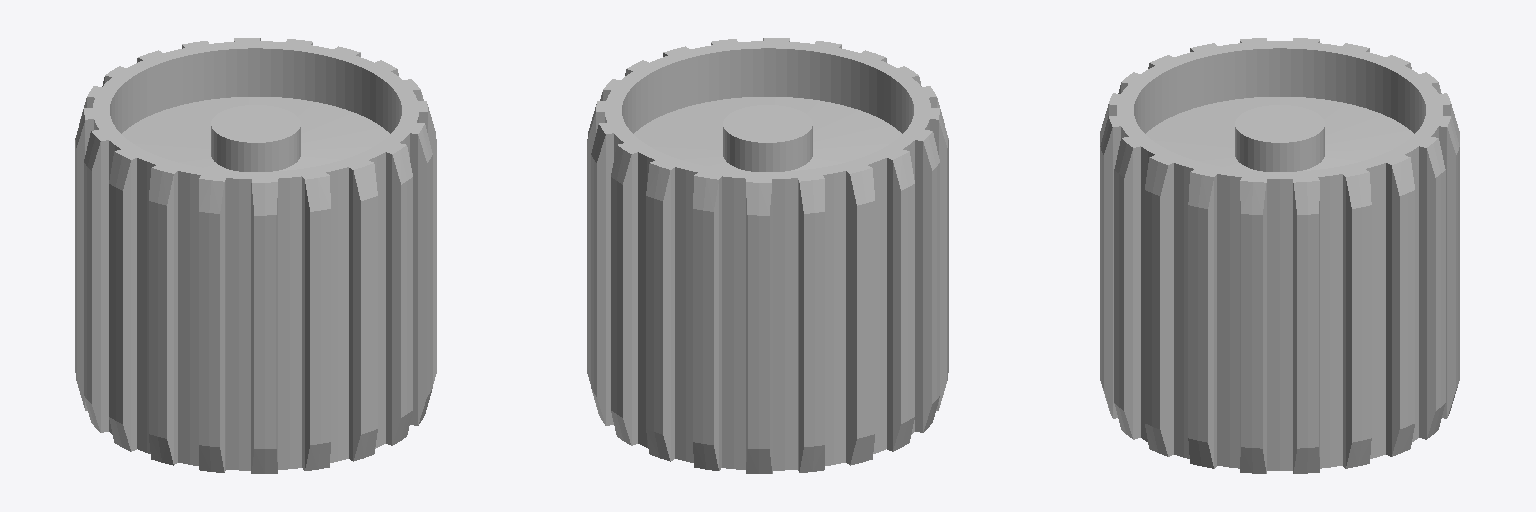
The model's file is gear.obj.
3 views of the same model, side by side, from view 1: azimuth 30°, elevation 25°; view 2: azimuth 150°, elevation 25°; view 3: azimuth 270°, elevation 25° (orthographic).
Parts seen in each view (by area): view 1: Gear.004; view 2: Gear.004; view 3: Gear.004.
Boxes of the visible parts, x1,y1,x2,y2 form: Gear.004: [75, 38, 436, 473]; Gear.004: [587, 38, 948, 473]; Gear.004: [1100, 38, 1459, 473].
Size of the model in its own units: 1.1 by 0.9889 by 1.1.